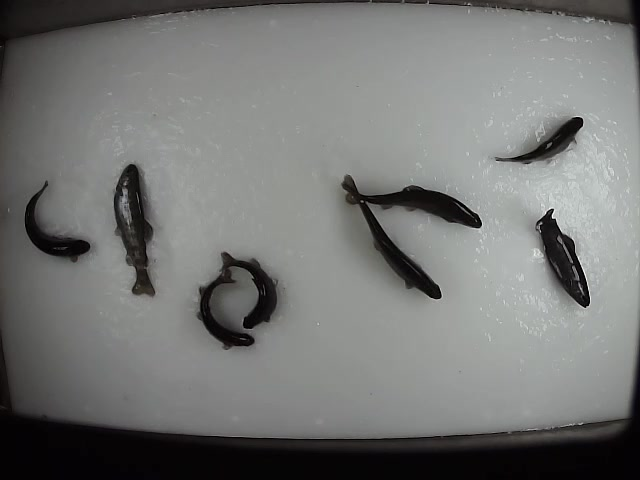fish: (341, 174, 444, 300), (341, 167, 481, 229), (110, 160, 158, 298), (532, 207, 592, 308), (18, 178, 90, 262), (193, 267, 262, 353), (219, 247, 282, 330), (490, 114, 588, 166)
